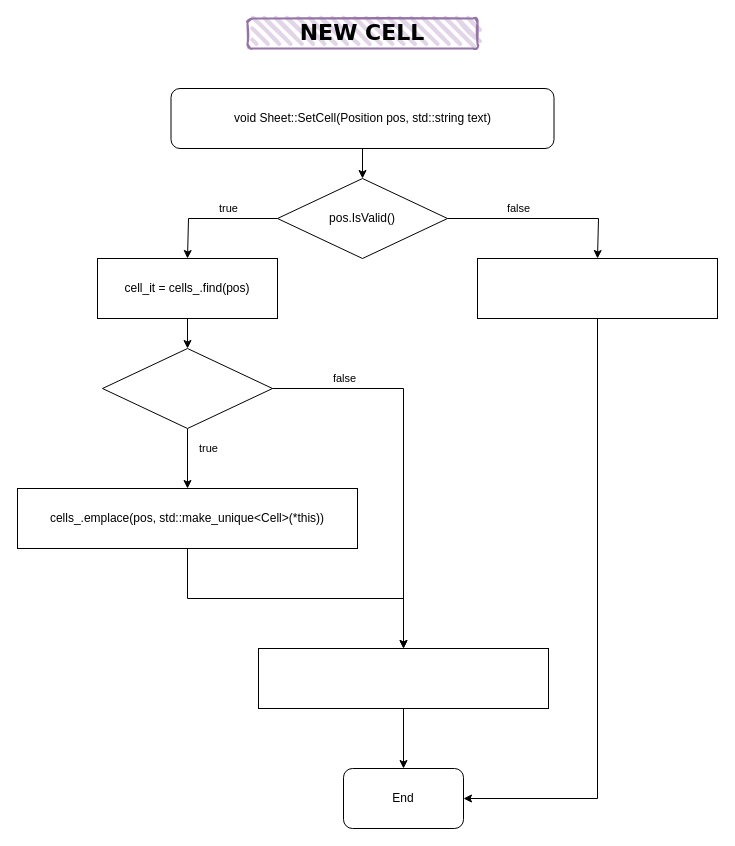
This 735x846 diagram has some shape labels left out. Each missing label, with the centre of its shape:
cell_it == cells_.end(): (187,388)
cells_.at(pos)->Set(std::move(text)): (403,678)
throw InvalidPositionException("Position is invalid"): (597,288)
